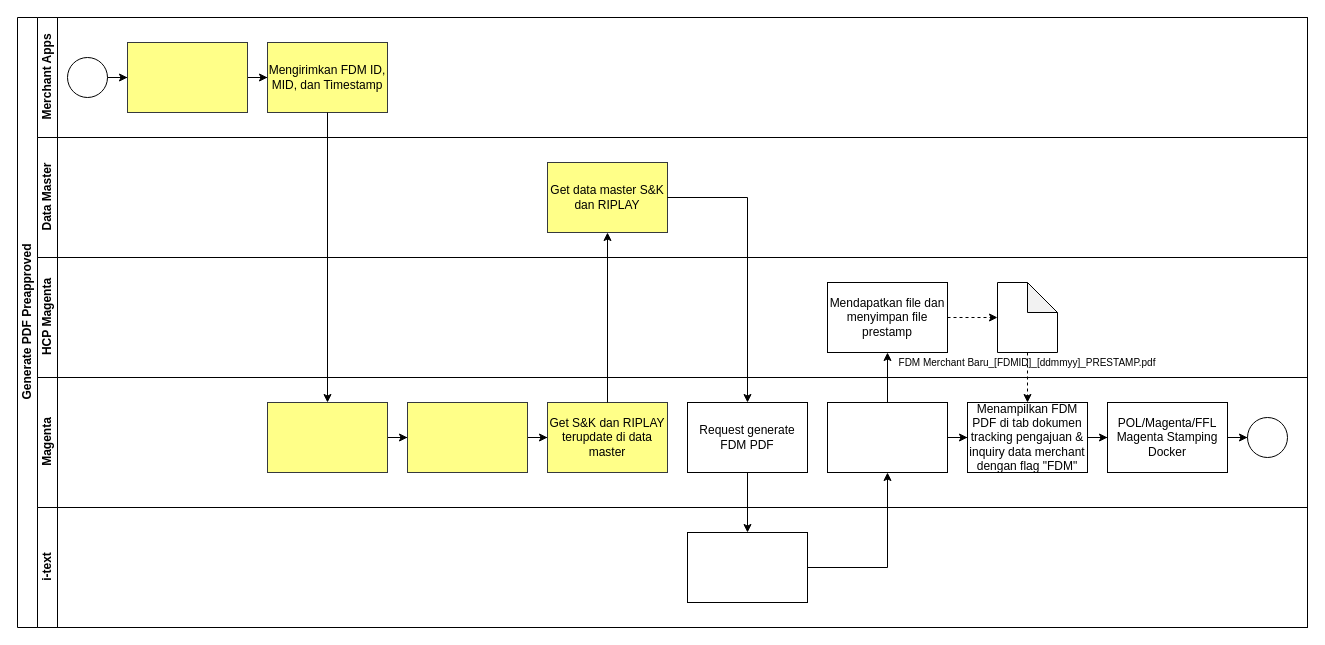
This 1325x645 diagram has some shape labels left out. Each missing label, with the centre of its shape:
"Generate fdm pdf" goes at [747,567].
"Hit service generate FDM PDF" goes at [467,437].
"Magenta inquiry Data FDMID" goes at [327,437].
"Mendapatkan file PDF dari i-text, simpan di HCP" goes at [887,437].
"mulai" goes at [87,77].
"selesai" goes at [1267,437].
"Setujui Ketentuan & RIPLAY" goes at [187,77].
